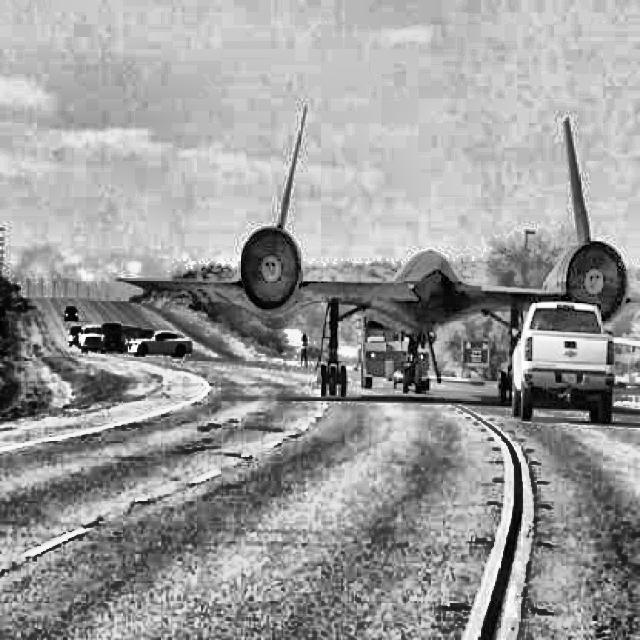SR71: (115, 105, 639, 403)
